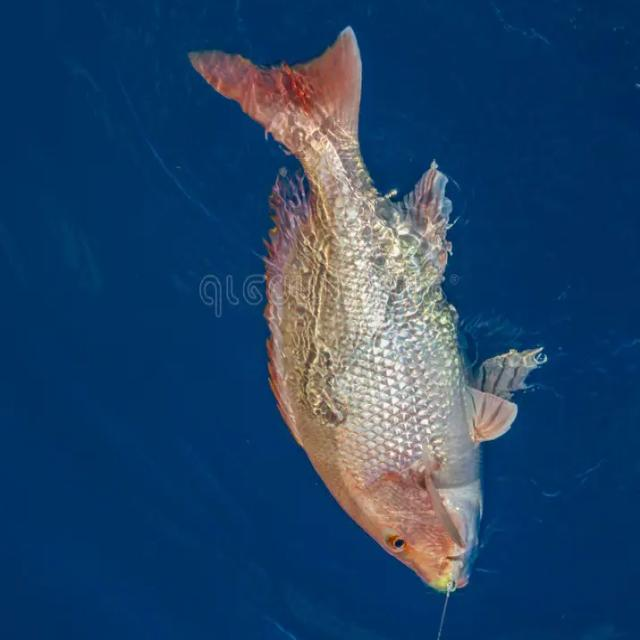Red Snapper: (186, 23, 538, 591)
